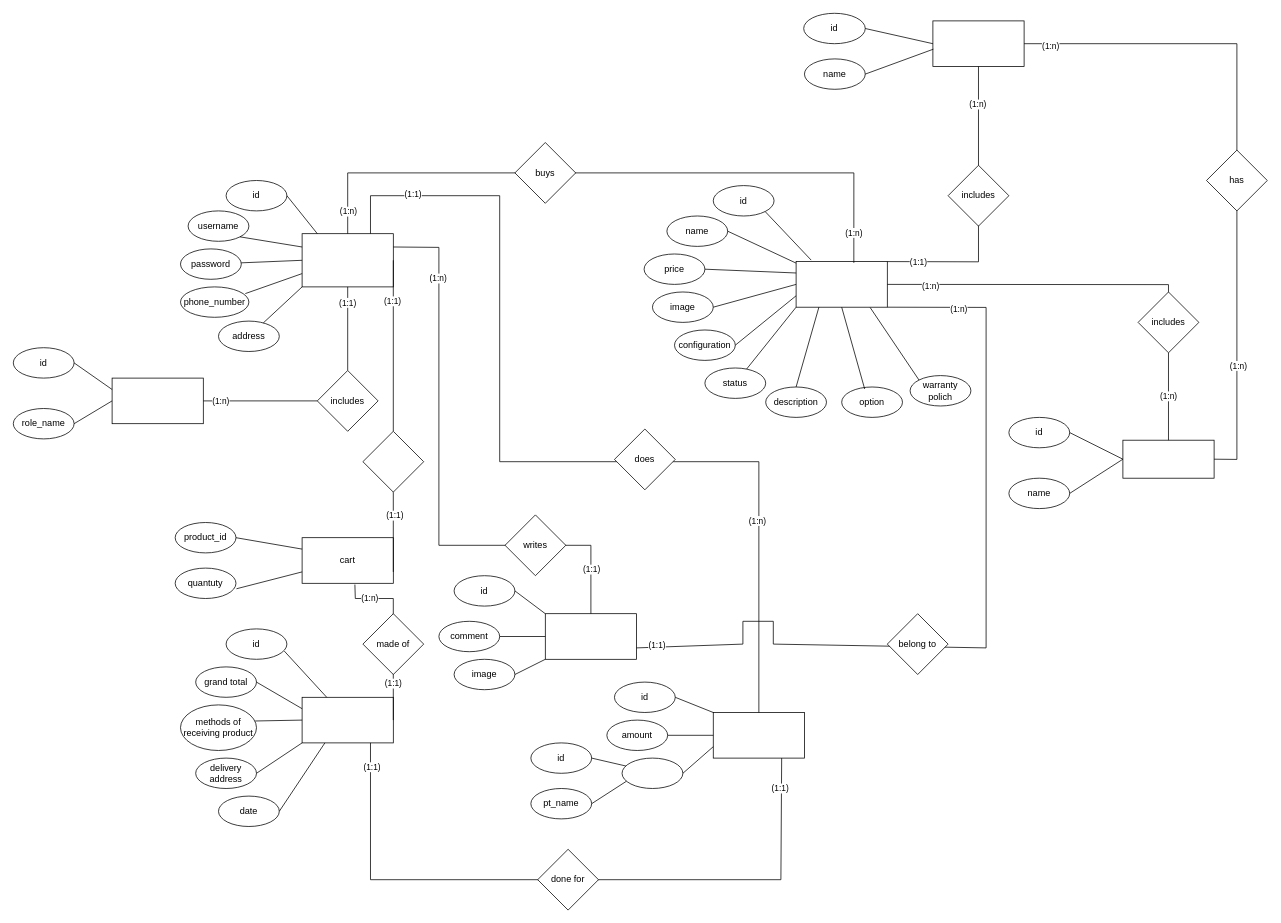
Some shapes in this 1281 by 923 pixel diagram are drawn without their labels. The box of each missing label's shape, as (x1, y1, x2, y2) in pixels:
brand: (1122, 439, 1214, 478)
create: (362, 431, 424, 492)
payment: (712, 712, 804, 758)
payment_type: (621, 757, 683, 788)
product: (795, 261, 887, 307)
report: (545, 613, 636, 659)
role: (111, 377, 203, 424)
shopping order: (301, 697, 393, 743)
type product: (932, 20, 1024, 66)
user: (301, 233, 393, 287)
